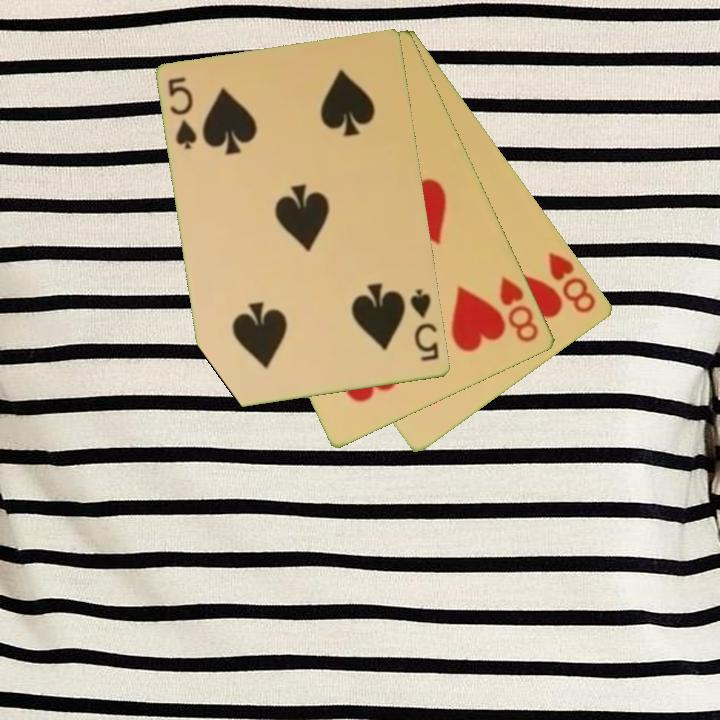5s: (407, 286, 442, 365), (165, 74, 200, 153)
8h: (545, 248, 599, 317), (496, 273, 542, 346)
